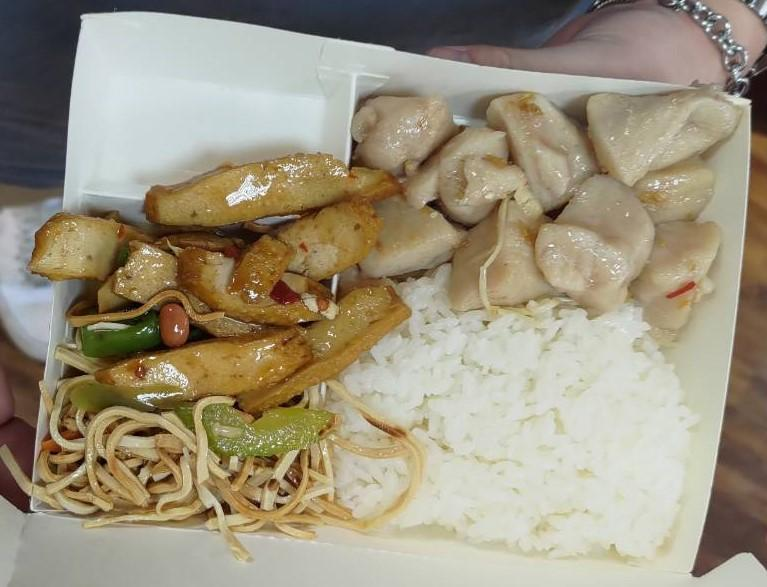big grilled chicken leg: (12, 4, 762, 575)
big herbal chicken leg: (337, 267, 686, 568)
braised fish fillet: (41, 159, 397, 405), (31, 375, 354, 543)
braised pork: (344, 73, 724, 340)
